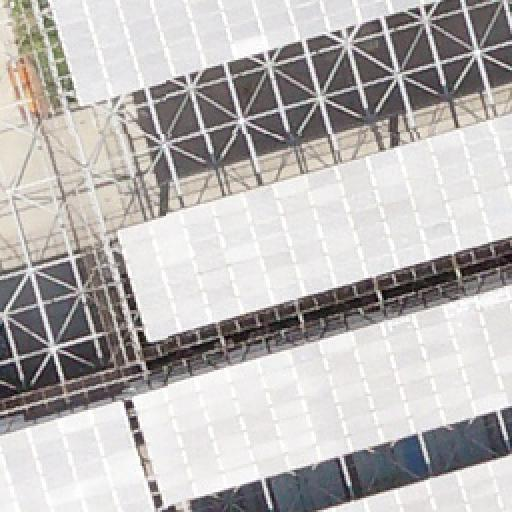solar-panel: (116, 112, 512, 344), (132, 283, 512, 509), (49, 1, 447, 111), (1, 400, 159, 512), (312, 452, 512, 512)
